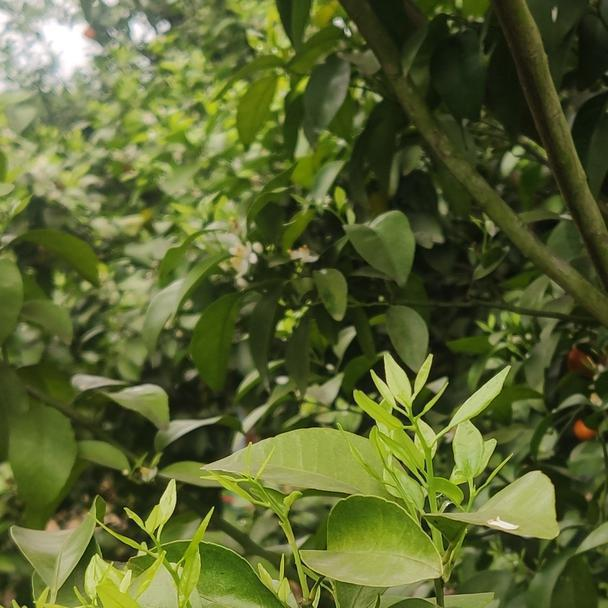shoot: (369, 362, 486, 504), (104, 496, 216, 593), (218, 454, 300, 551)
